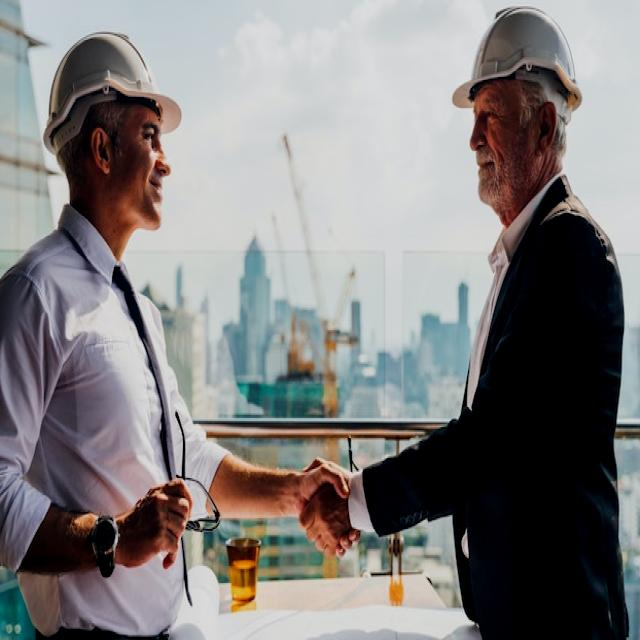helmet: (36, 26, 194, 160), (449, 1, 593, 120)
no-goggles: (450, 84, 548, 152), (79, 106, 181, 162)
no-vest: (456, 186, 626, 626), (1, 252, 174, 624)
